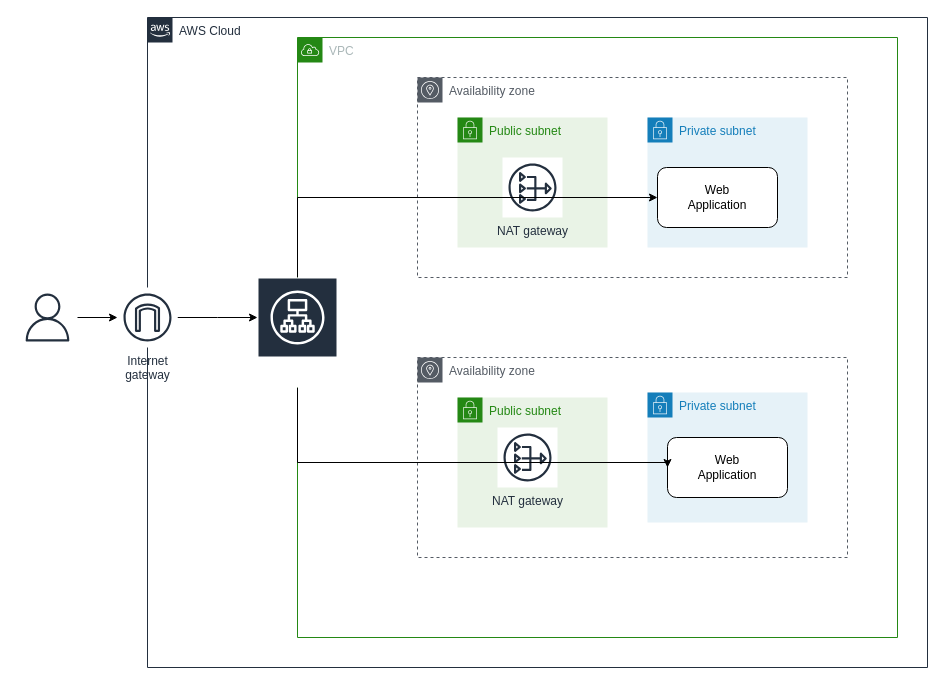
Image size: 945x685. Some labels were removed from this diagram. The shapes that lost their labels are listed below. From the top down, each one's centre as x and y in pixels, then its label:
At [47,317]: "User".
At [297,332]: "Application Load Balancer".
